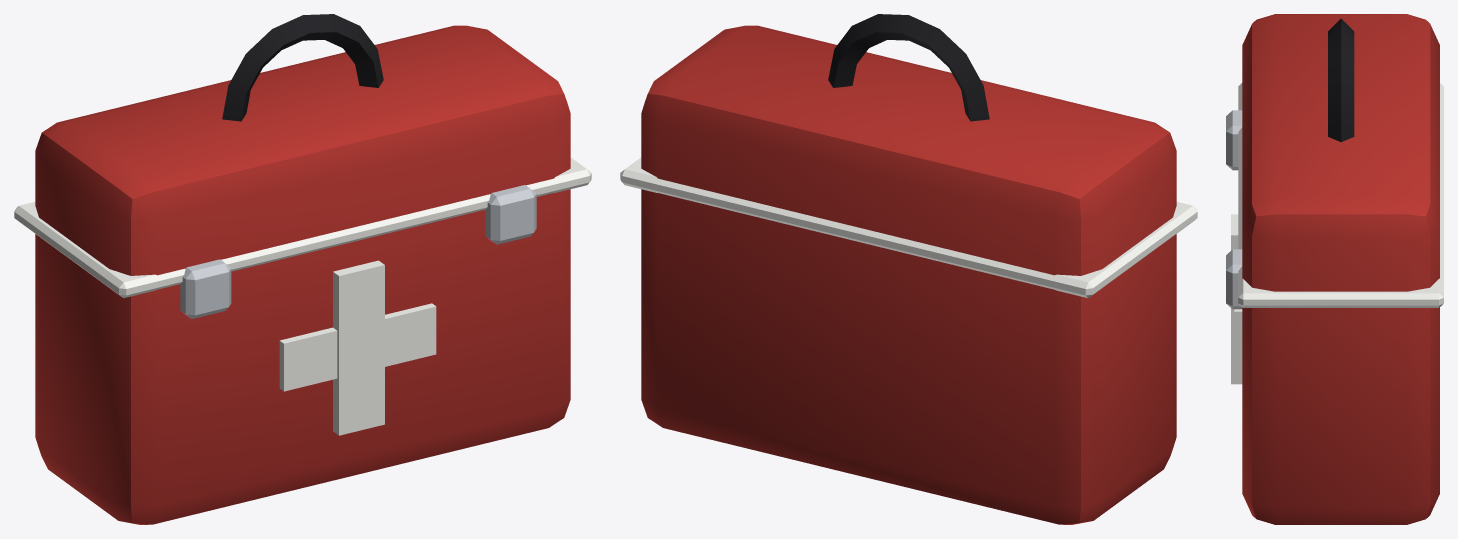
Rendered from SM_First_Aid_Kit.glb.
3 renders of one model, left to right at view 1: azimuth 30°, elevation 25°; view 2: azimuth 150°, elevation 25°; view 3: azimuth 270°, elevation 25°, orthographic. The views are drawn at different scales.
Parts seen in each view (by area): view 1: SM_First_Aid_Kit; view 2: SM_First_Aid_Kit; view 3: SM_First_Aid_Kit.
Boxes of the visible parts, left/top/right/bottom form: SM_First_Aid_Kit: left=14, top=14, right=591, bottom=524; SM_First_Aid_Kit: left=620, top=14, right=1197, bottom=524; SM_First_Aid_Kit: left=1226, top=14, right=1443, bottom=524.
Bounding box in the file's own units: 0.31 × 0.273 × 0.1325.
1 material, 1 textured.
